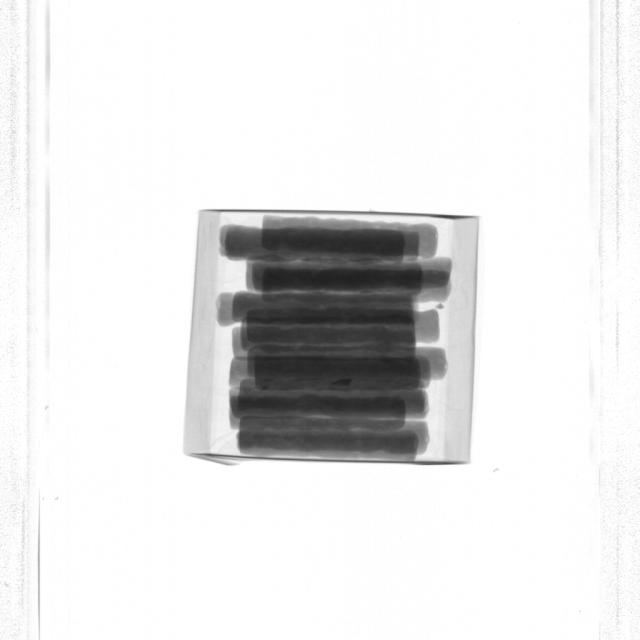ym: (331, 378, 353, 386), (436, 303, 445, 310), (261, 386, 270, 392)
